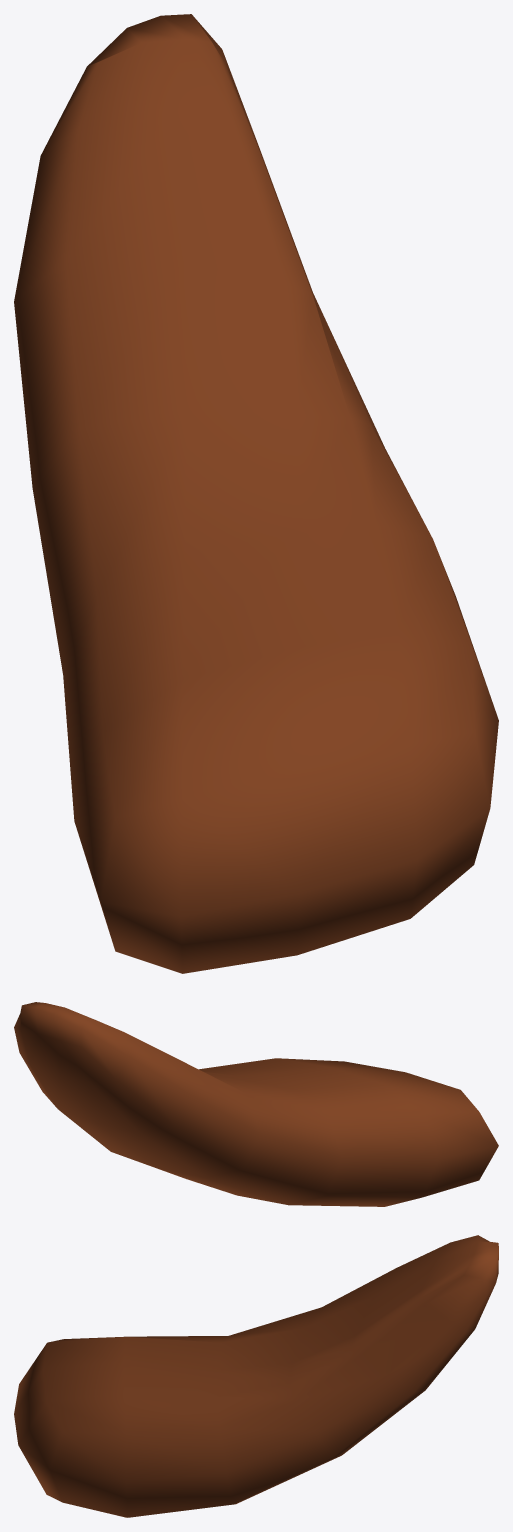
File: Branch too.fbx
The picture shows the model from 3 angles, top to bottom: view 1: azimuth 30°, elevation 25°; view 2: azimuth 150°, elevation 25°; view 3: azimuth 270°, elevation 25°; orthographic projection. The views are drawn at different scales.
Parts seen in each view (by area): view 1: Branch 2; view 2: Branch 2; view 3: Branch 2.
Boxes of the visible parts, x1=… form: Branch 2: x1=14, y1=14, x2=498, y2=973; Branch 2: x1=14, y1=1002, x2=498, y2=1206; Branch 2: x1=14, y1=1235, x2=498, y2=1517.
Size of the model in its own units: 841 by 578 by 582.
